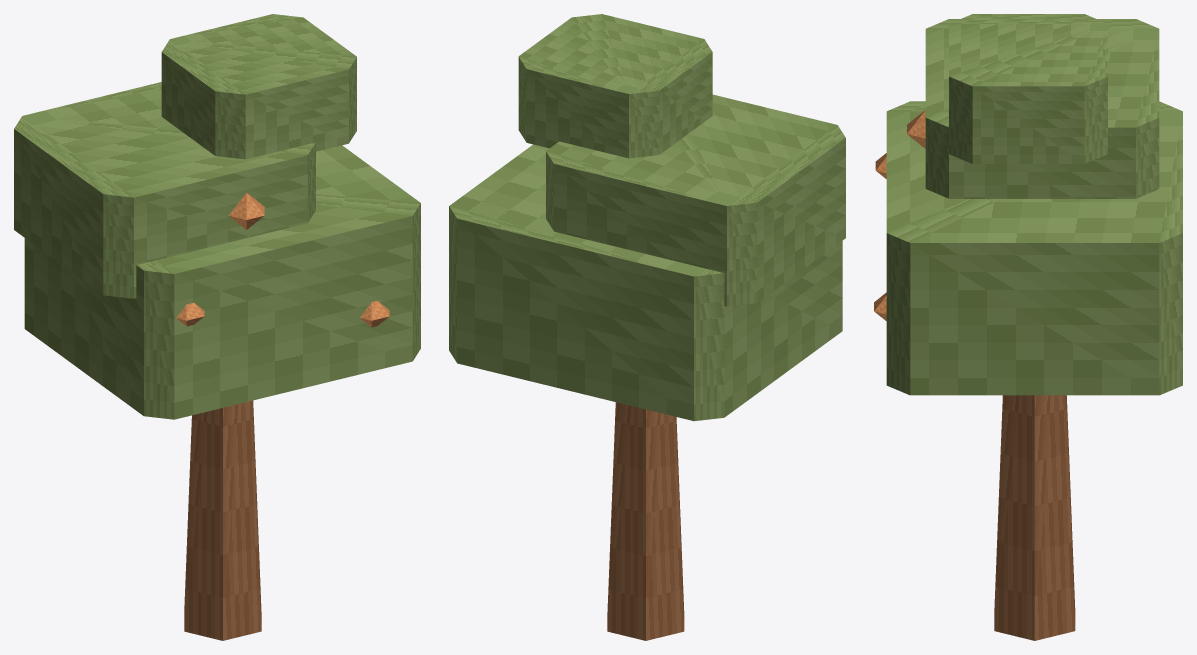
The model's file is Arbre.glb.
3 renders of one model, left to right at view 1: azimuth 30°, elevation 25°; view 2: azimuth 150°, elevation 25°; view 3: azimuth 270°, elevation 25°, orthographic. The views are drawn at different scales.
Visible parts, largest first — view 1: Structure; view 2: Structure; view 3: Structure.
Part boxes in pixels (<box>): Structure: <box>14,14,420,640</box>; Structure: <box>449,14,845,640</box>; Structure: <box>874,14,1182,640</box>.
Size of the model in its own units: 2.32 by 4.16 by 1.98.
1 material, 1 textured.
